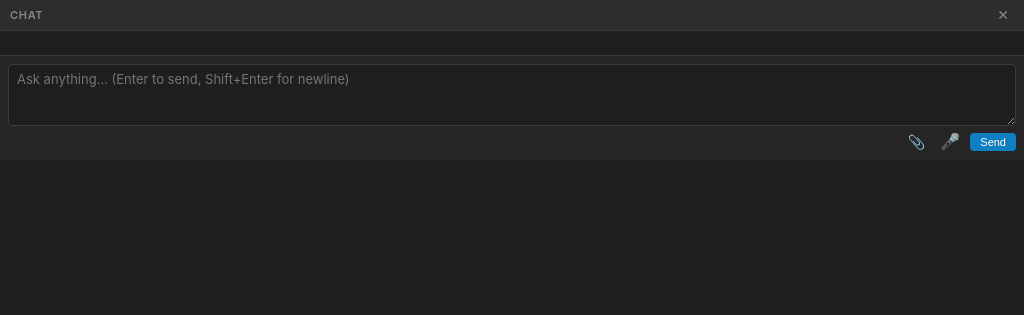
it: ChatPanel › marks failed tool results from stream status without rendering raw result data
Type "run command" into the text box with placeholder "Ask anything… (Enter to send, Shift+Enter for newline)" at (512, 95), box [8, 64, 1016, 126]
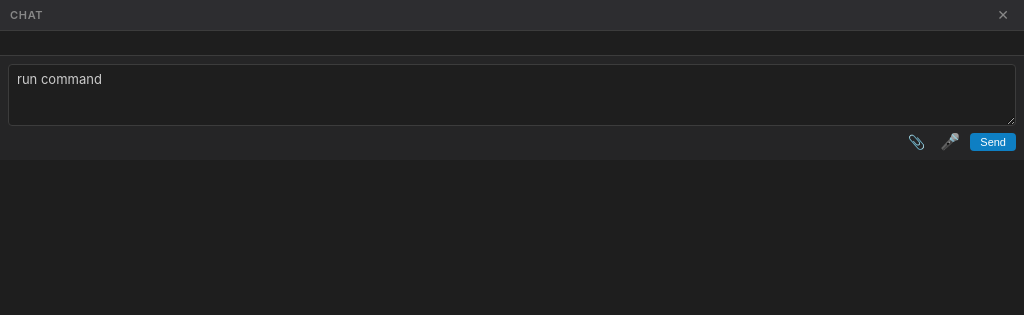
Click the button "Send" at (993, 142), box [970, 133, 1016, 151]
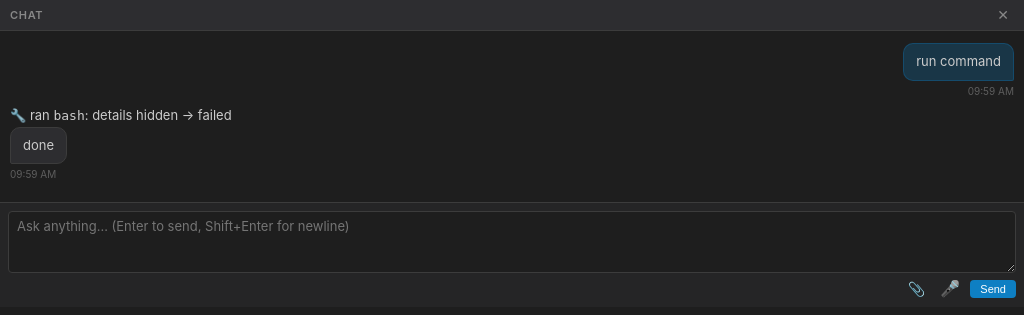
expect the element with test id "tool-pill" shows "bash": met, box [53, 108, 85, 122]
expect the element with test id "tool-pill" shows "failed": met, box [198, 106, 232, 122]
